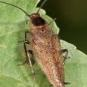cockroach: (26, 11, 64, 86)
